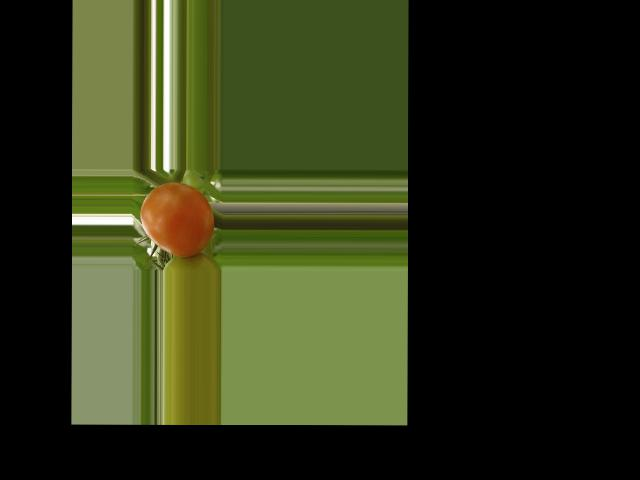tomato: (140, 182, 214, 257)
